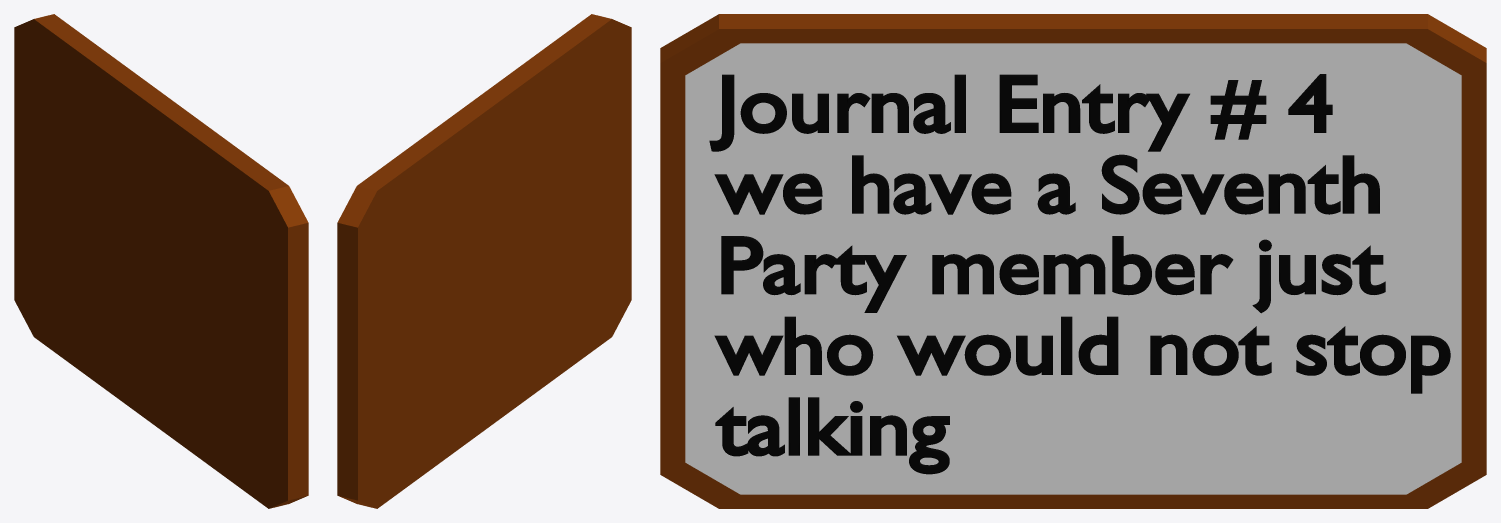
The model's file is CODE 4.fbx.
The picture shows the model from 3 angles, left to right: view 1: azimuth 30°, elevation 25°; view 2: azimuth 150°, elevation 25°; view 3: azimuth 270°, elevation 25°; orthographic projection. The views are drawn at different scales.
Visible parts, largest first — view 1: sign Text.003; view 2: sign Text.003; view 3: sign Text.003.
Part boxes in pixels (x1,y1,x2,y2): sign Text.003: (14,14,308,508); sign Text.003: (337,14,631,508); sign Text.003: (660,14,1486,508).
Size of the model in its own units: 3.89 by 53.4 by 83.29.
